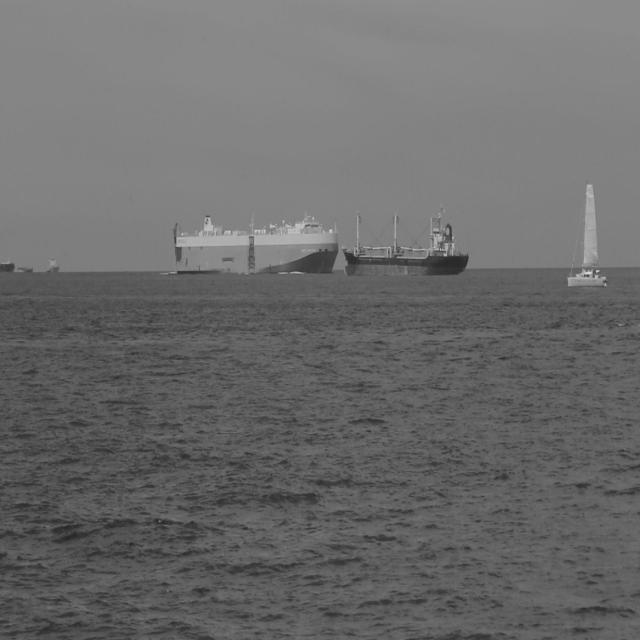ship: (171, 210, 339, 276), (340, 200, 471, 278), (565, 178, 608, 288), (45, 252, 60, 274), (0, 256, 16, 274), (16, 263, 34, 274)
